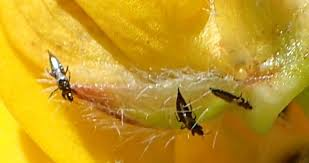Phlaeothripidae: (173, 87, 207, 136), (43, 50, 74, 103), (209, 88, 255, 112)
